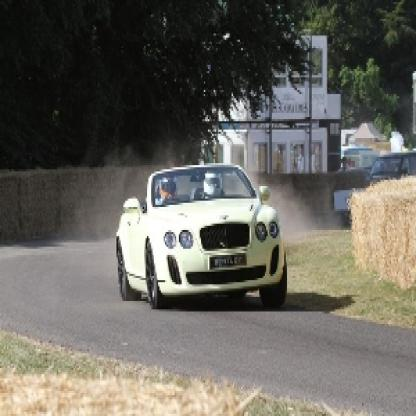Vehicle: (115, 159, 293, 316)
